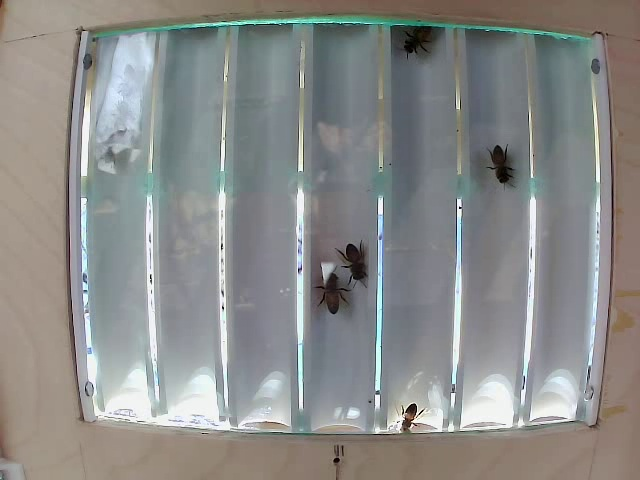bee: (400, 19, 440, 72), (339, 231, 377, 281), (317, 264, 348, 320), (488, 132, 517, 182)
